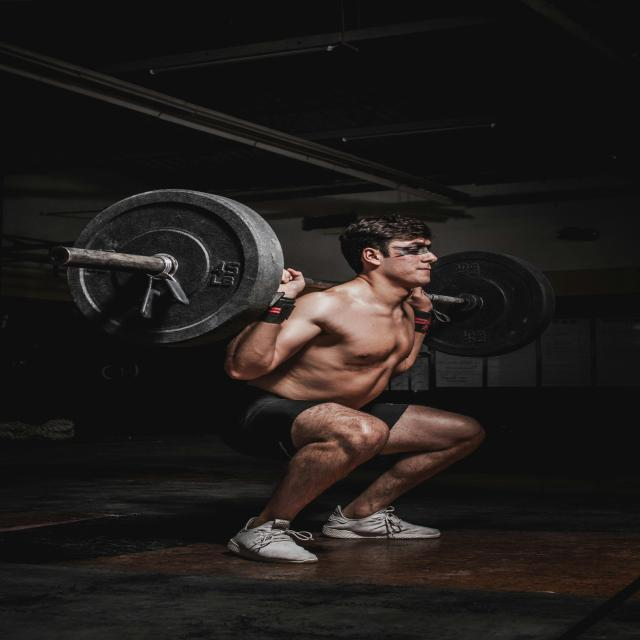sit: (216, 202, 502, 571)
